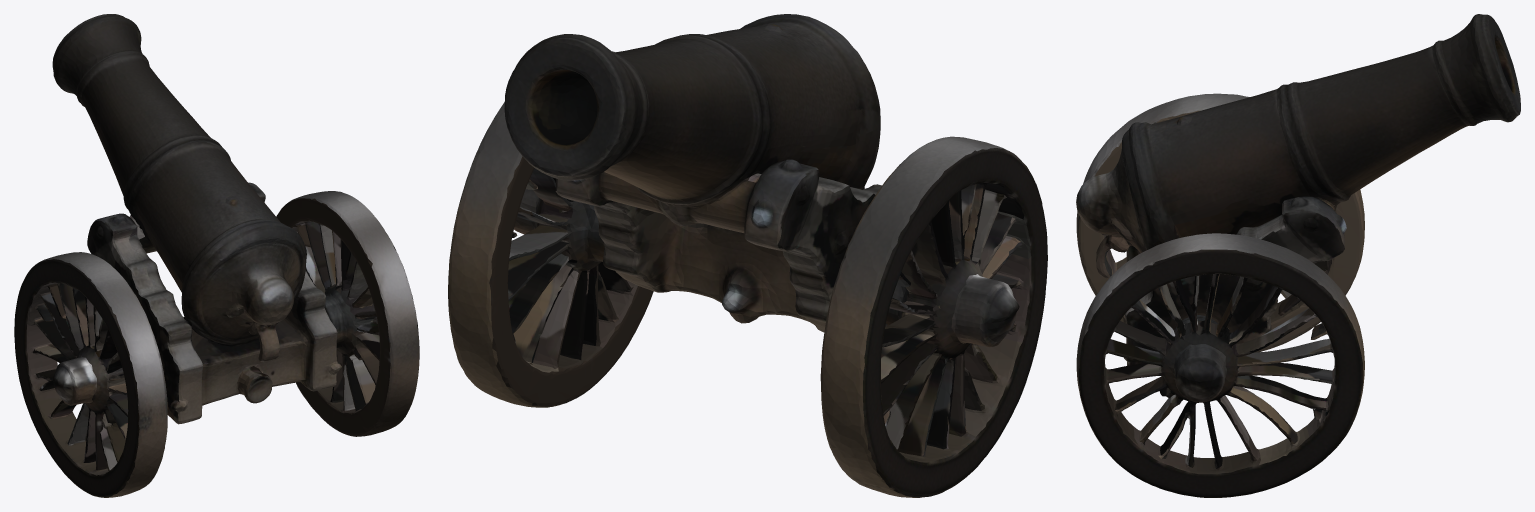
The model's file is mdl_cannon_001.glb.
3 renders of one model, left to right at view 1: azimuth 30°, elevation 25°; view 2: azimuth 150°, elevation 25°; view 3: azimuth 270°, elevation 25°, orthographic. The views are drawn at different scales.
Visible parts, largest first — view 1: tmpxp8a49os.ply; view 2: tmpxp8a49os.ply; view 3: tmpxp8a49os.ply.
Boxes of the visible parts, x1,y1,x2,y2 form: tmpxp8a49os.ply: (14,14,419,497); tmpxp8a49os.ply: (448,14,1047,497); tmpxp8a49os.ply: (1076,14,1520,497).
Bounding box in the file's own units: 0.9975 × 0.9891 × 0.989.
Materials: 1 (1 with a texture image).
